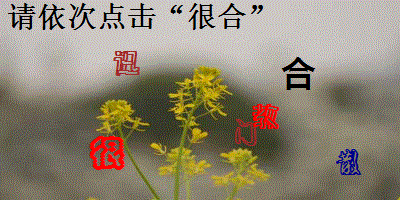text: (90, 135, 127, 170), (282, 55, 316, 91), (111, 50, 141, 77), (232, 116, 258, 147), (251, 104, 280, 131), (336, 148, 363, 176)
